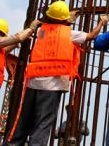gloves: (30, 18, 42, 31), (100, 14, 109, 26)
hard-hat: (46, 1, 71, 21)
vest: (35, 20, 84, 79)
